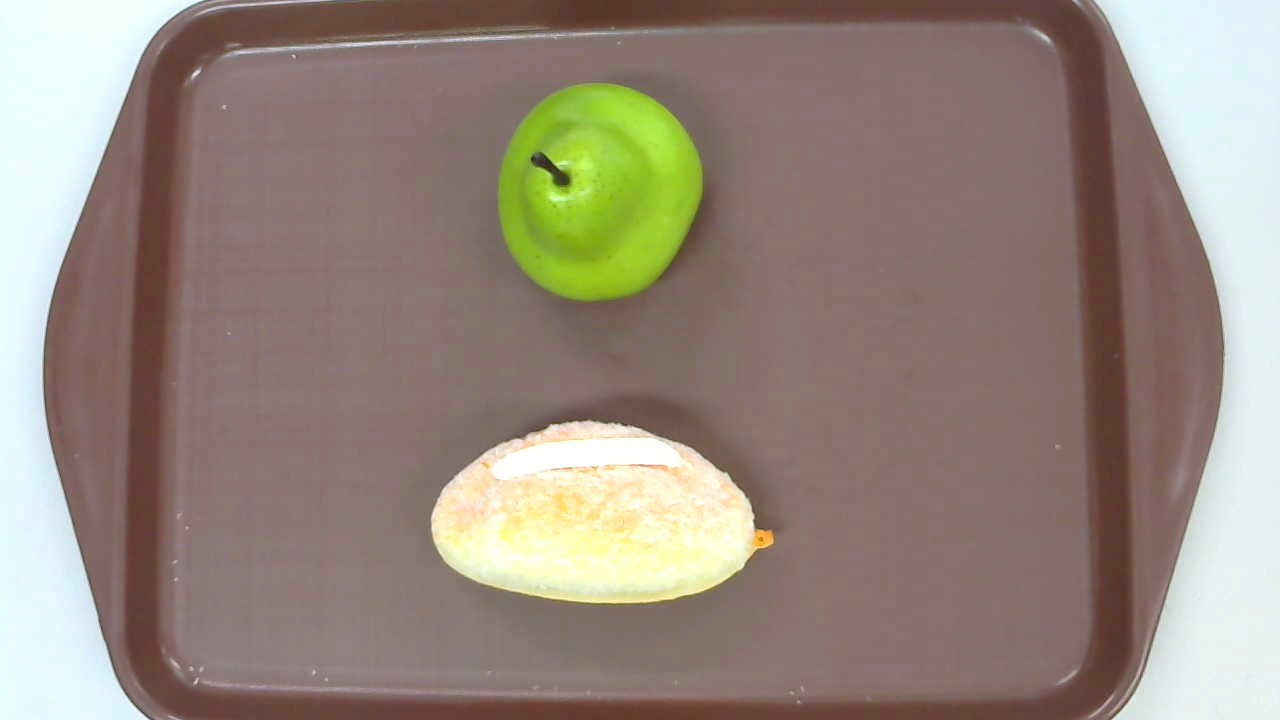coconut: (430, 420, 774, 604)
green pear: (497, 80, 703, 301)
